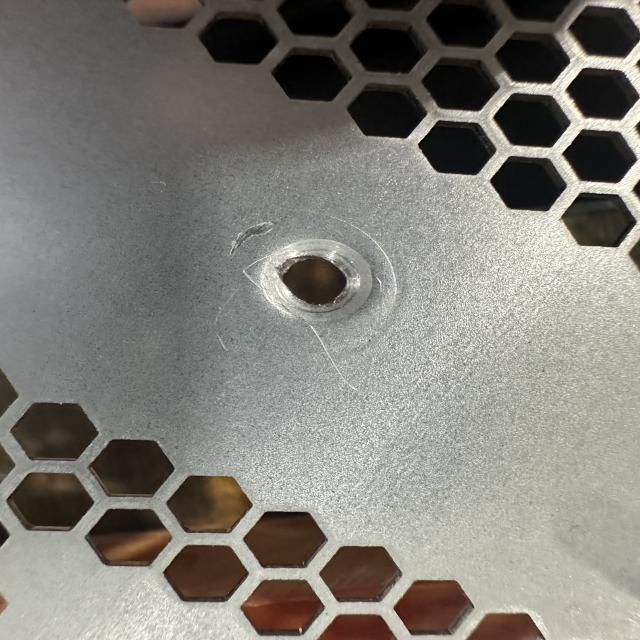Missing screw: (247, 229, 390, 332)
